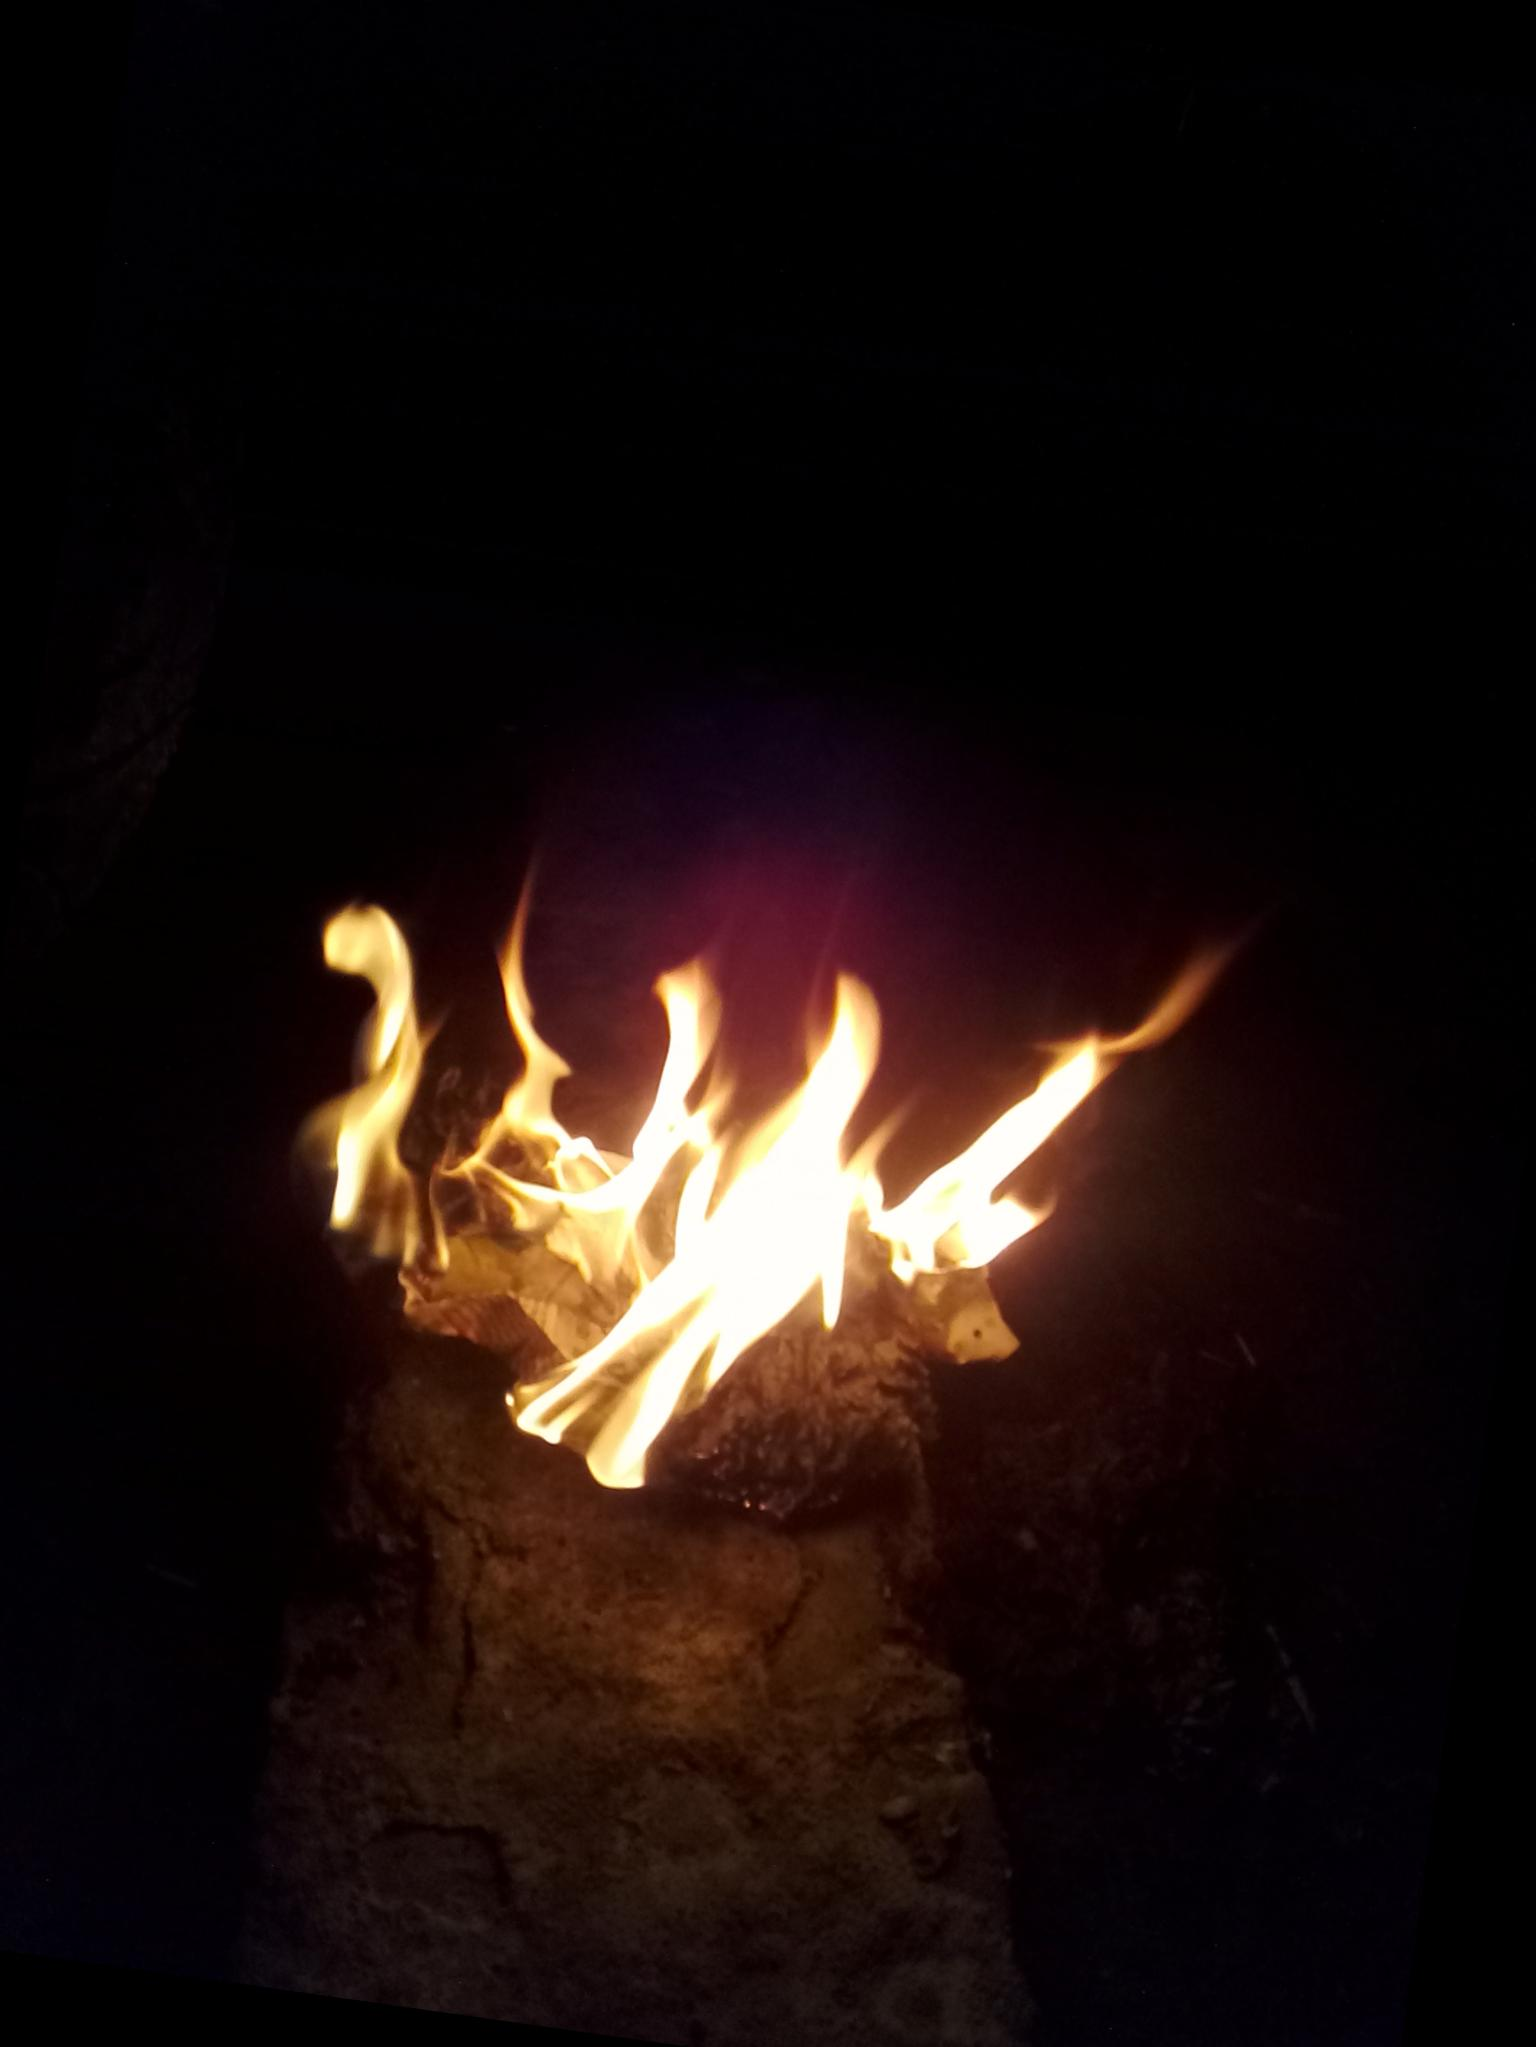Fire: (240, 808, 1241, 1571)
